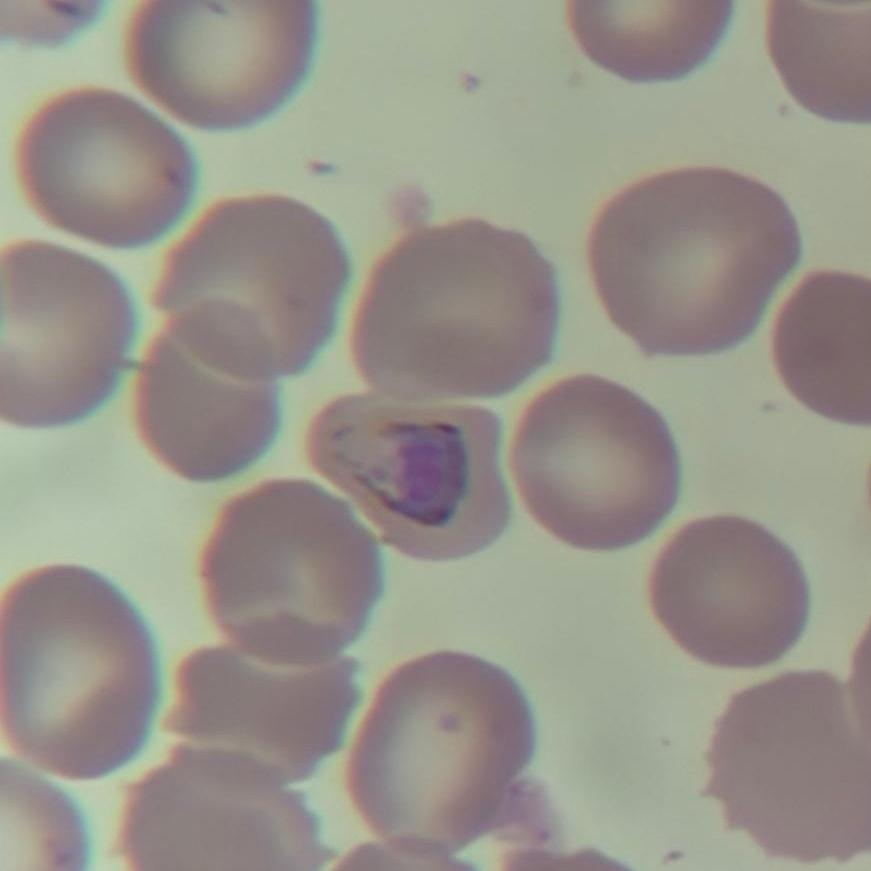Infected: (303, 390, 508, 563)
Uninfected: (588, 165, 796, 360), (355, 222, 556, 405), (155, 197, 348, 378), (348, 655, 526, 845), (0, 562, 155, 778), (208, 477, 378, 671), (168, 619, 370, 779), (713, 664, 871, 863), (503, 375, 674, 546), (25, 87, 198, 246), (0, 242, 138, 429), (133, 304, 274, 481), (123, 0, 314, 130), (120, 752, 327, 871), (648, 515, 802, 670), (773, 270, 871, 426)
